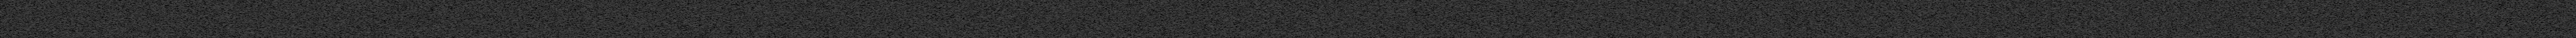wv_am: (2037, 0, 2040, 38)
wv_cw: (28, 0, 31, 38)
wv_lsb: (1879, 3, 1889, 38), (1884, 0, 1888, 3)
wv_usb: (1712, 0, 1720, 38), (1250, 0, 1258, 38), (1768, 8, 1771, 30), (1768, 30, 1776, 38), (1822, 33, 1830, 38), (1768, 2, 1771, 8), (1718, 28, 1720, 30)
wv_wbfm: (521, 0, 695, 38), (678, 0, 731, 38), (485, 0, 536, 38), (450, 2, 467, 10), (744, 2, 759, 10), (744, 30, 756, 36), (450, 30, 462, 36), (746, 21, 759, 26), (452, 21, 465, 26), (751, 13, 764, 17), (457, 13, 470, 17), (754, 18, 767, 20), (462, 18, 475, 20), (462, 28, 475, 30), (756, 28, 767, 30), (738, 12, 747, 13), (445, 12, 453, 13), (754, 35, 762, 36), (458, 33, 467, 35), (462, 35, 468, 36), (752, 33, 759, 35), (743, 10, 747, 12), (448, 10, 453, 12)
